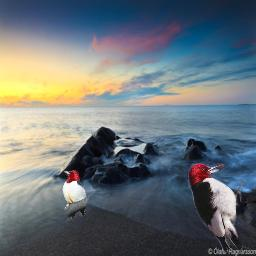Woodpecker: (188, 163, 244, 254), (61, 170, 87, 223)
